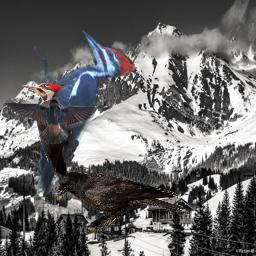Crow: (53, 171, 183, 234)
Swallow: (1, 97, 99, 144)
Woodpecker: (34, 24, 135, 200), (21, 83, 76, 187)
